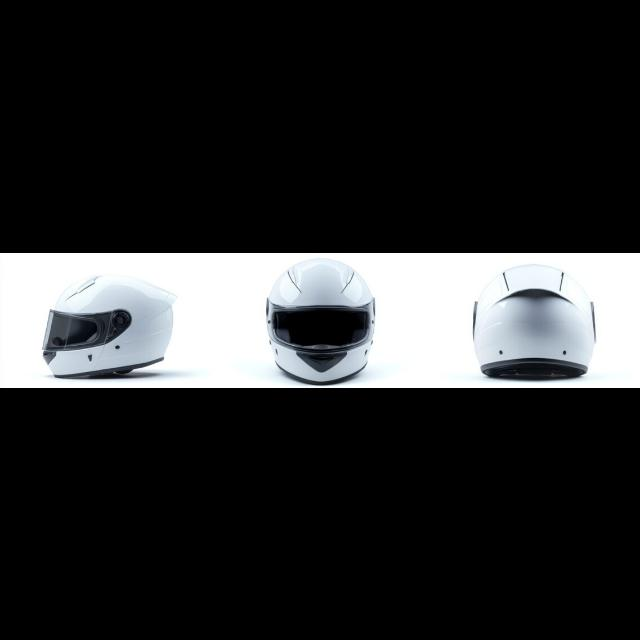motorcycle-helmets: (35, 266, 181, 382), (470, 260, 600, 382), (262, 256, 378, 386)
